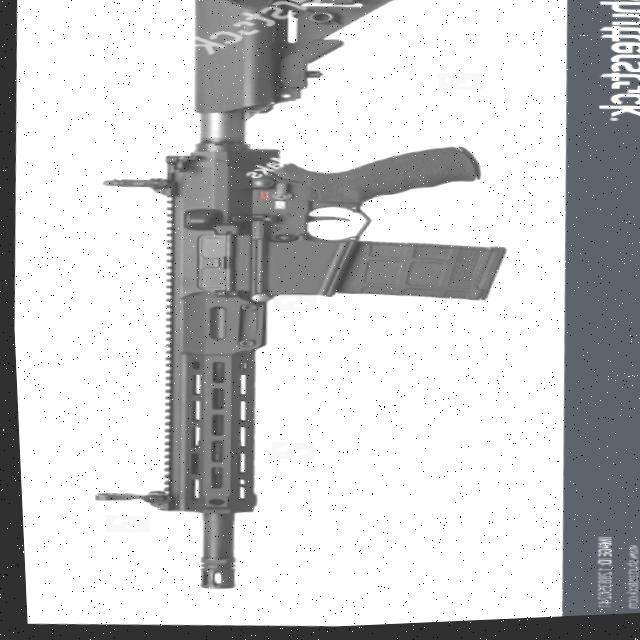firearm: (59, 0, 532, 611)
